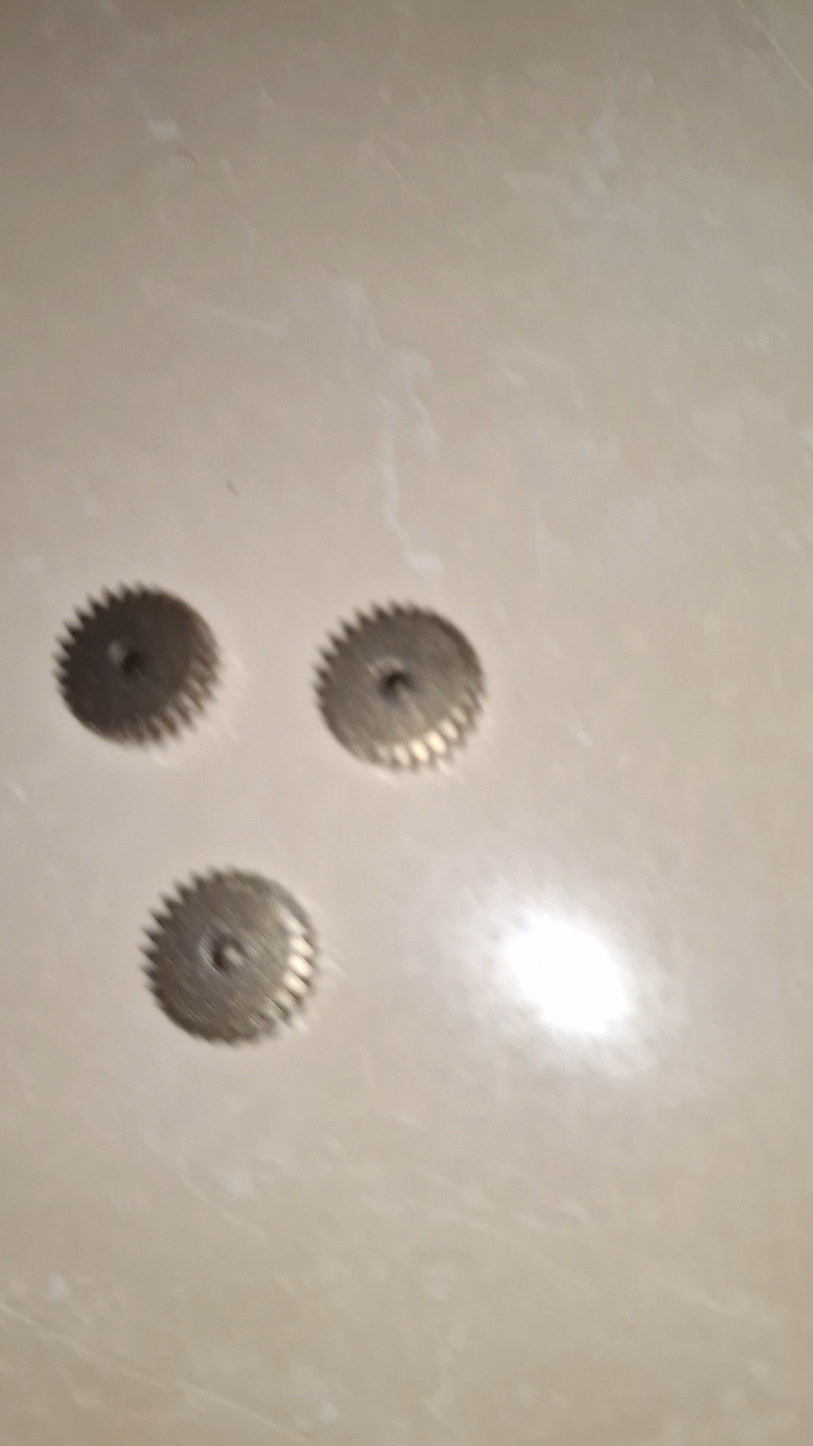spur gear: (145, 871, 315, 1043), (317, 605, 484, 768), (56, 587, 219, 744)
